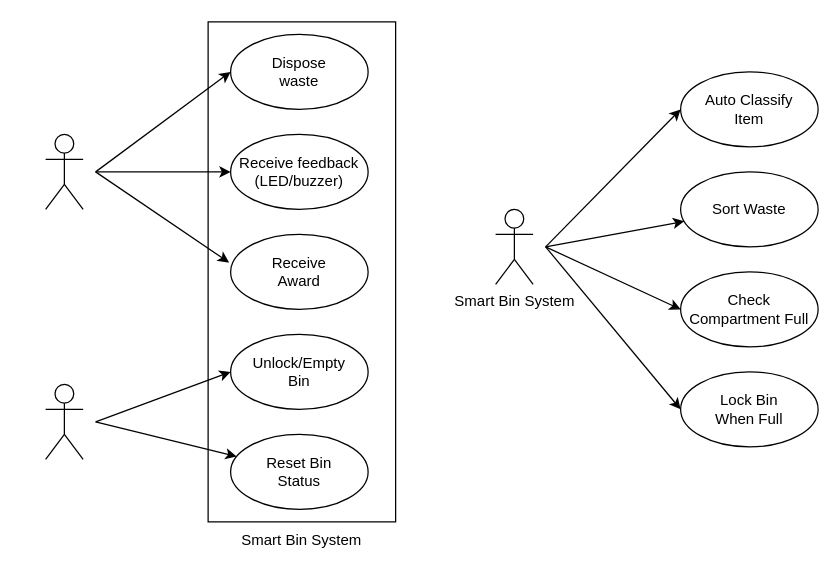
Image size: 840x581. Some labels were removed from this diagram. Each missing label, with the box of its shape:
Maintenance Staff: (44, 383, 83, 459)
User: (44, 133, 83, 209)
